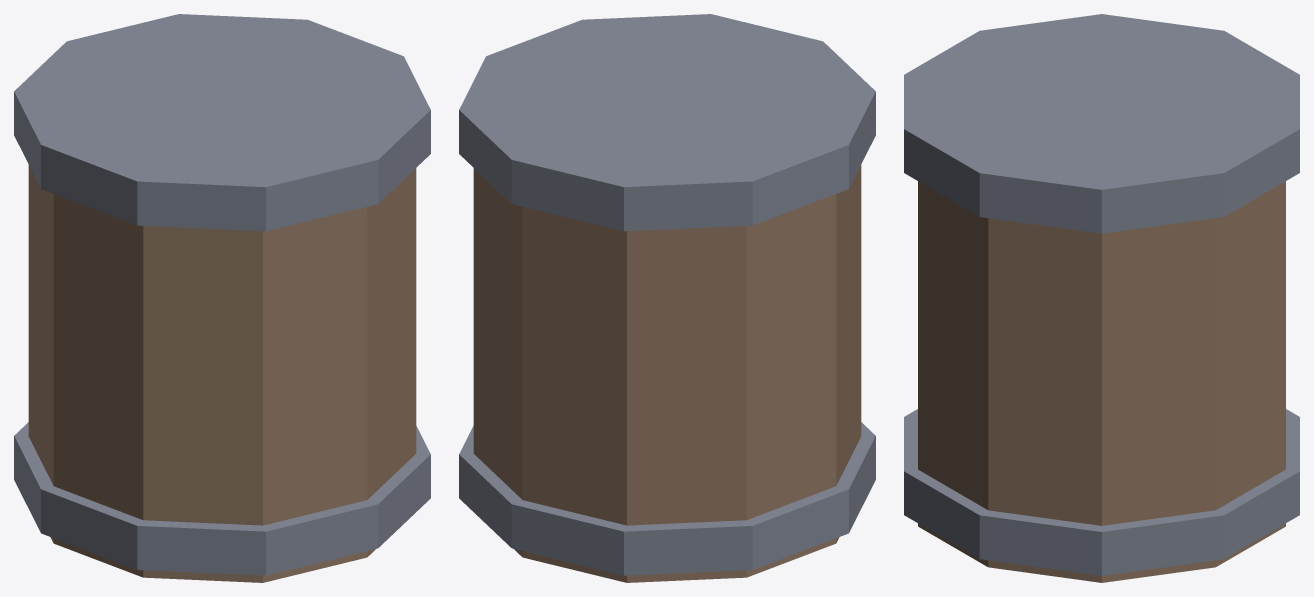
The model's file is barril.glb.
The picture shows the model from 3 angles, left to right: view 1: azimuth 30°, elevation 25°; view 2: azimuth 150°, elevation 25°; view 3: azimuth 270°, elevation 25°; orthographic projection.
Visible parts, largest first — view 1: part_000, part_001, part_002; view 2: part_000, part_001, part_002; view 3: part_000, part_001, part_002.
Boxes of the visible parts, x1=… form: part_000: x1=28, y1=165, x2=416, y2=582; part_001: x1=14, y1=14, x2=430, y2=231; part_002: x1=14, y1=422, x2=430, y2=575; part_000: x1=473, y1=165, x2=861, y2=582; part_001: x1=459, y1=14, x2=875, y2=231; part_002: x1=459, y1=422, x2=875, y2=575; part_000: x1=918, y1=181, x2=1285, y2=582; part_001: x1=904, y1=14, x2=1299, y2=233; part_002: x1=904, y1=409, x2=1299, y2=575.
Size of the model in its own units: 0.86 by 0.91 by 0.8179.
